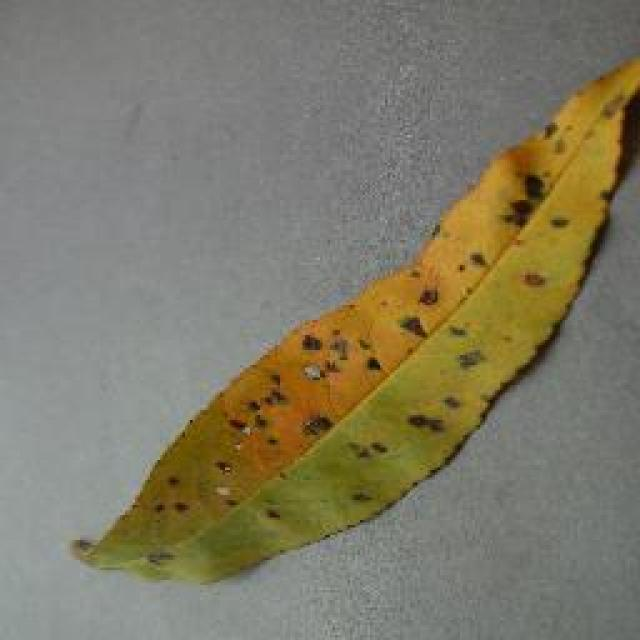Peach_Bacterial_Spot: (198, 234, 545, 524)
